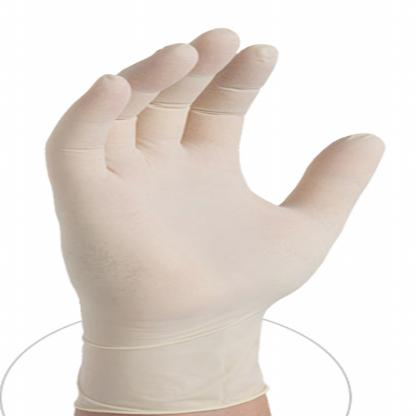with_gloves: (47, 26, 388, 414)
